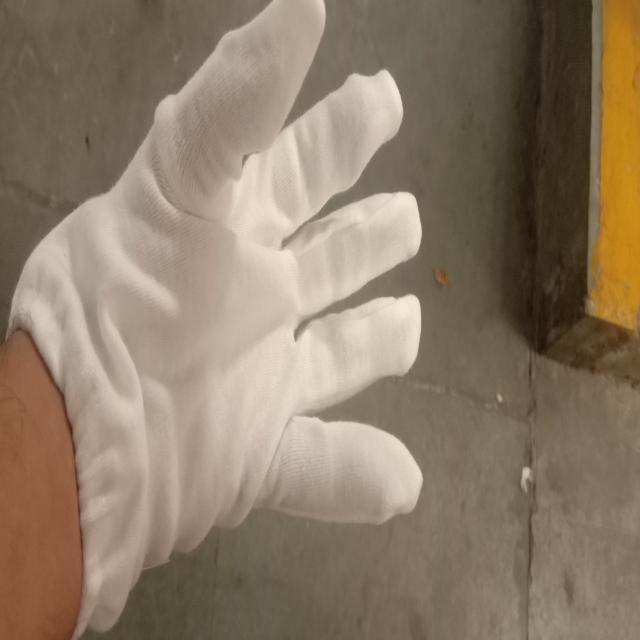glove_hand: (3, 2, 424, 640)
